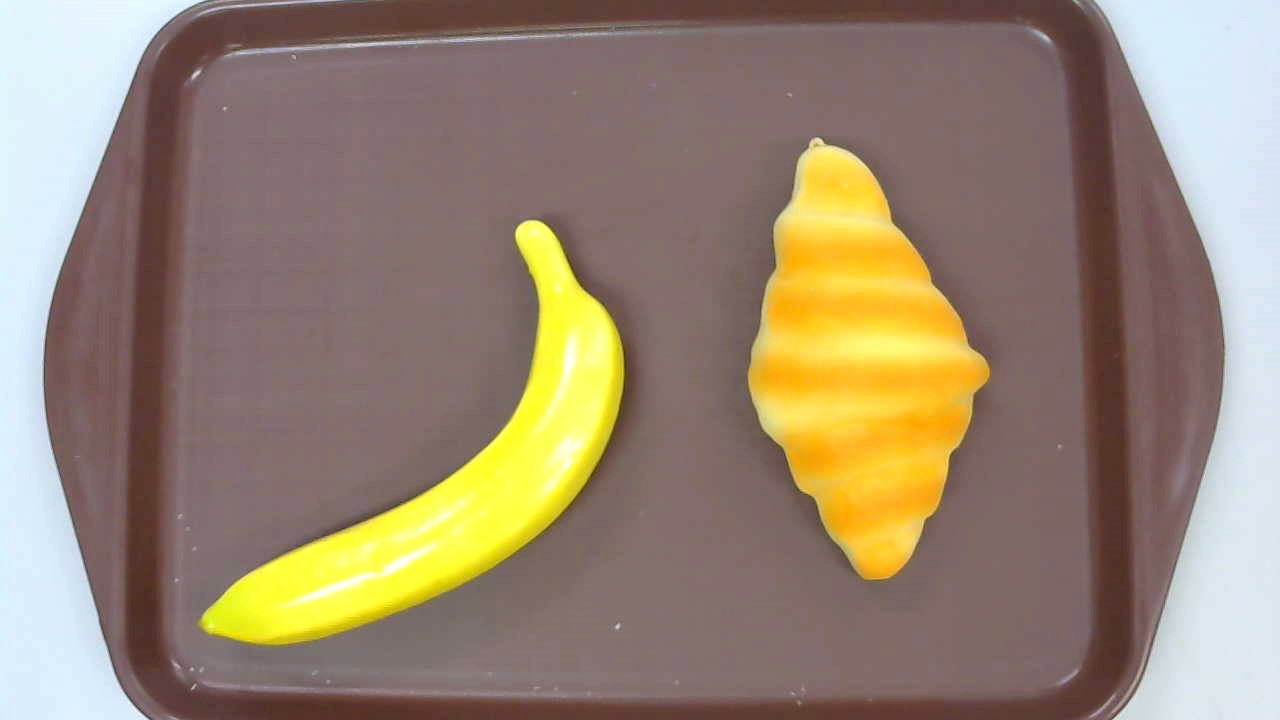banana: (196, 220, 625, 645)
croissant: (747, 136, 991, 580)
